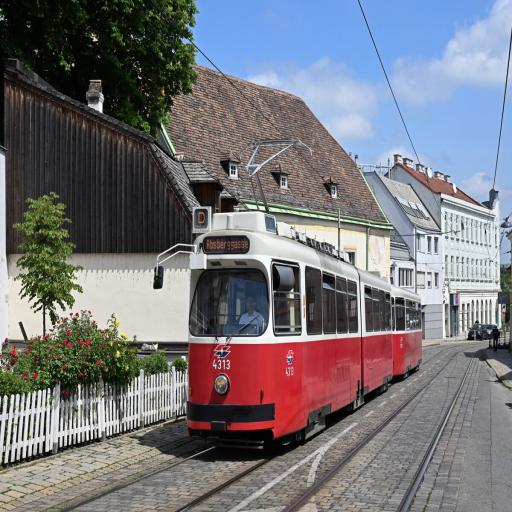E2-Tram: (185, 206, 422, 436)
